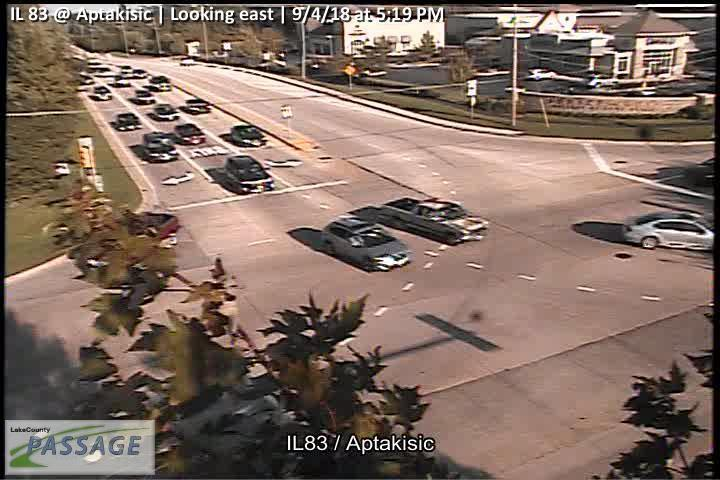SUV: (226, 155, 275, 194), (143, 132, 179, 163)
Sedan: (320, 216, 412, 275), (620, 210, 715, 250), (229, 124, 267, 148), (175, 124, 207, 146)
Truck: (377, 197, 489, 247)
